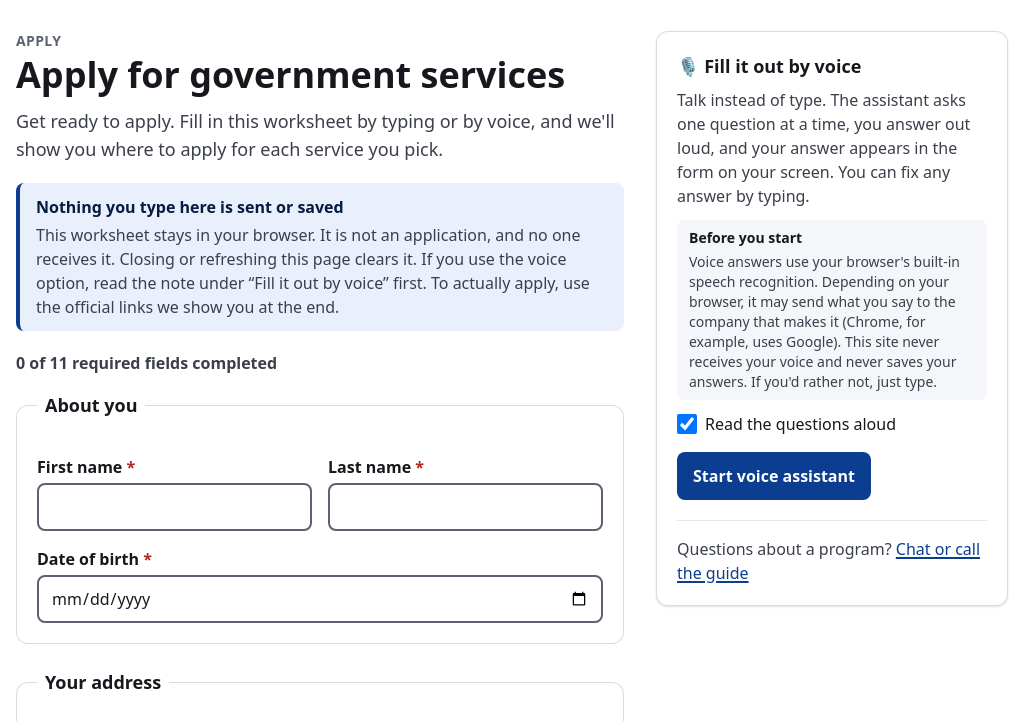
Test: <Apply /> voice assistant › pauses after repeated silence and tells you why
What coordinates should you click on to do the following:
click the button "Start voice assistant"
I would click on:
 (774, 476)
Its box is [677, 452, 871, 500].
(page scrolled)
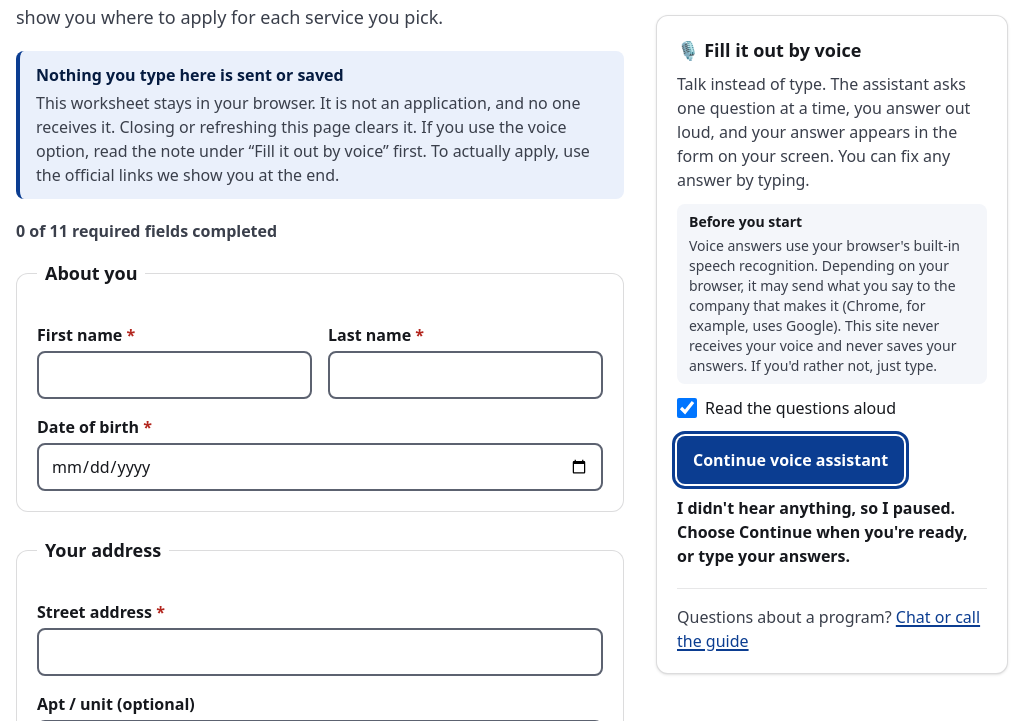
Result: the text "I didn't hear anything, so I paused" is shown at [677, 497, 968, 567]
